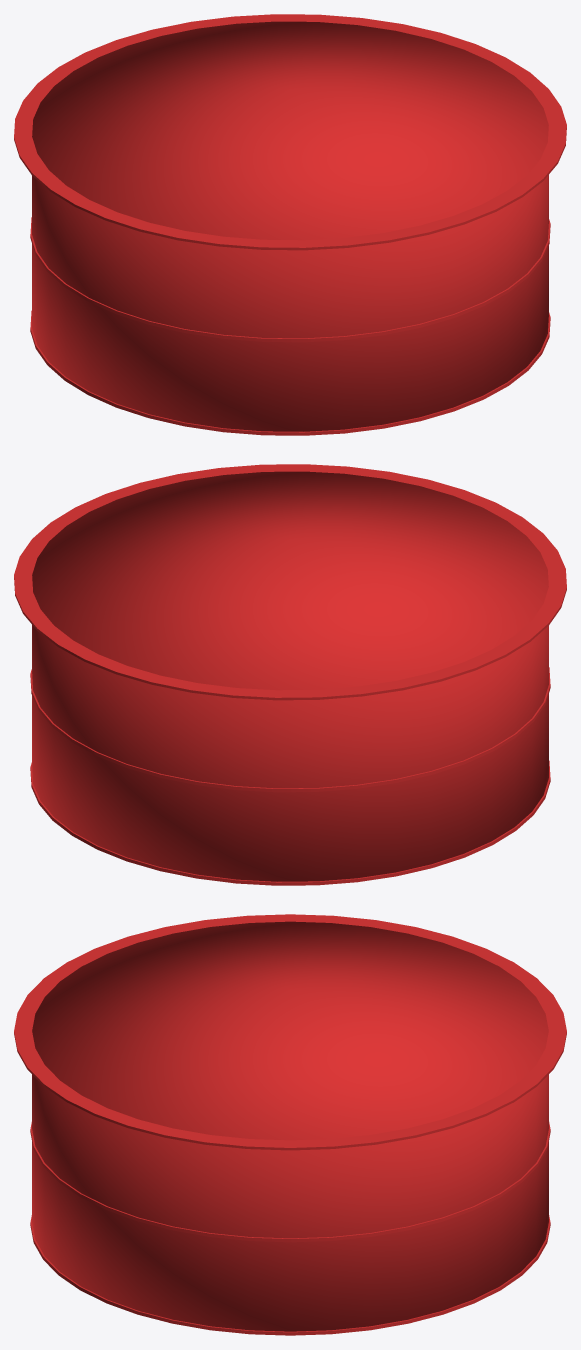
The model's file is Tank_01.fbx.
3 renders of one model, top to bottom at view 1: azimuth 30°, elevation 25°; view 2: azimuth 150°, elevation 25°; view 3: azimuth 270°, elevation 25°, orthographic.
Parts seen in each view (by area): view 1: Tank_01; view 2: Tank_01; view 3: Tank_01.
Part boxes in pixels (x1=…): Tank_01: x1=14, y1=14, x2=566, y2=435; Tank_01: x1=14, y1=464, x2=566, y2=885; Tank_01: x1=14, y1=914, x2=566, y2=1335.
Size of the model in its own units: 8030 by 3788 by 8030.
